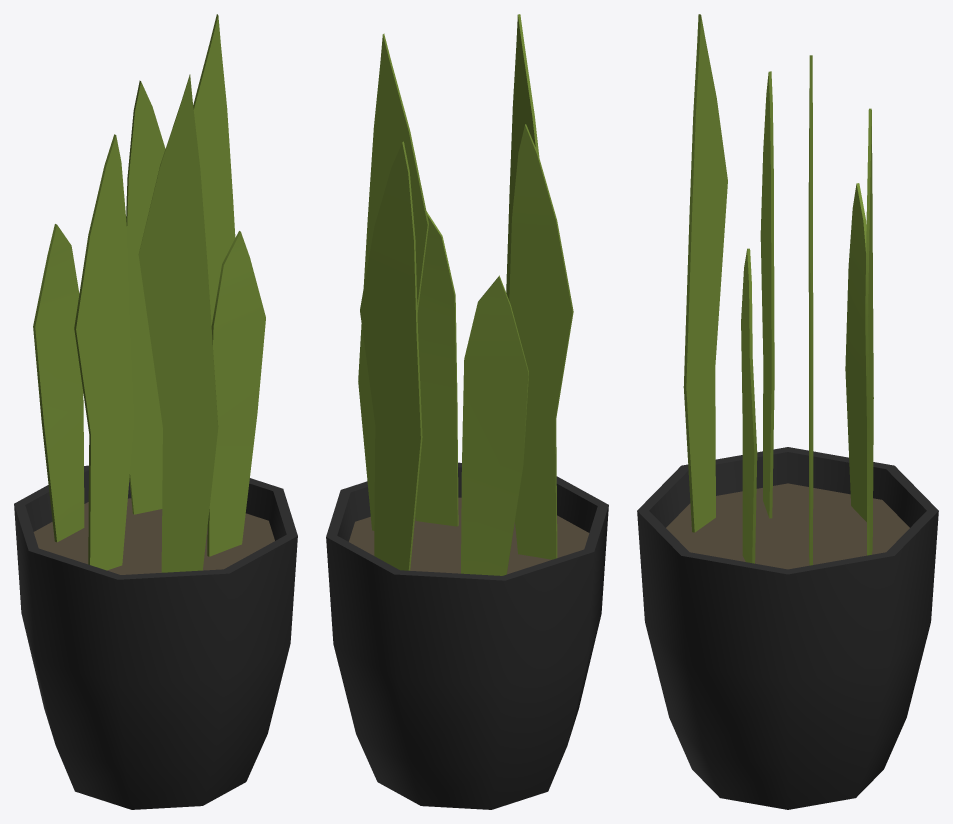
The model's file is Houseplant_4.glb.
3 views of the same model, side by side, from view 1: azimuth 30°, elevation 25°; view 2: azimuth 150°, elevation 25°; view 3: azimuth 270°, elevation 25° (orthographic). The views are drawn at different scales.
Visible parts, largest first — view 1: Houseplant_4; view 2: Houseplant_4; view 3: Houseplant_4.
Boxes of the visible parts, left/top/right/bottom form: Houseplant_4: left=14, top=14, right=297, bottom=809; Houseplant_4: left=326, top=14, right=608, bottom=809; Houseplant_4: left=637, top=14, right=938, bottom=809.
Size of the model in its own units: 0.1015 by 0.2785 by 0.1015.
